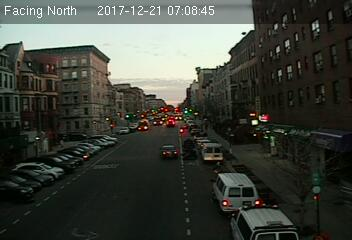car: (159, 144, 179, 159)
police: (231, 201, 302, 240)
truck: (209, 172, 264, 215), (203, 143, 223, 162)
